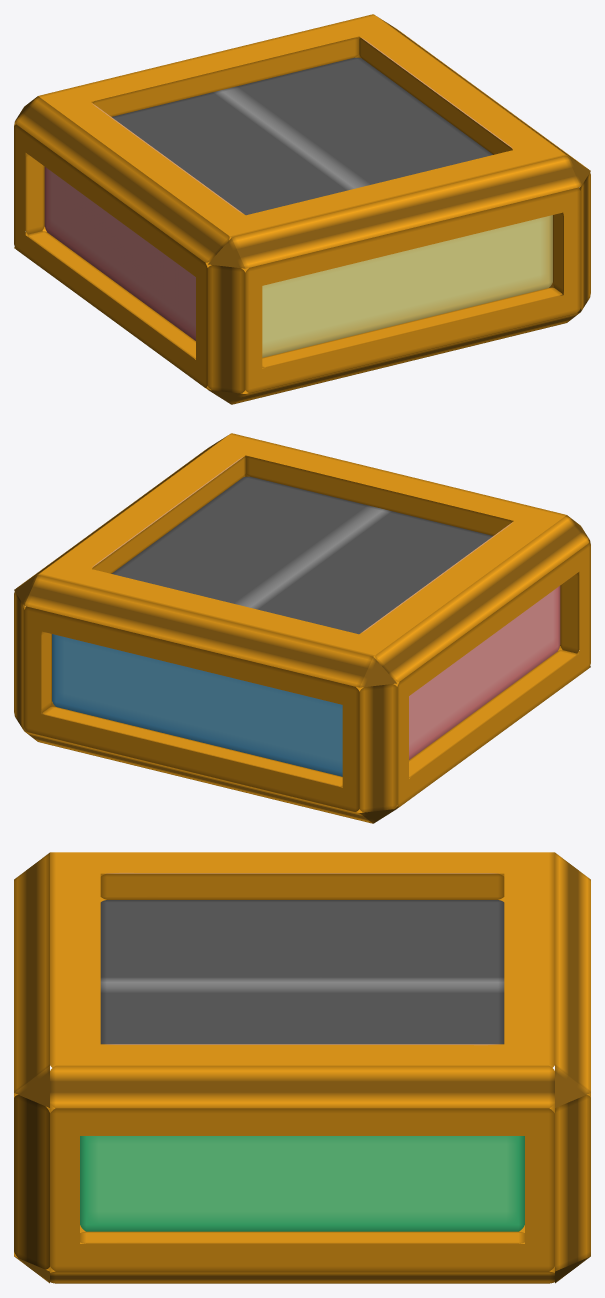
File: QB-10_Ammobox.fbx
The picture shows the model from 3 angles, top to bottom: view 1: azimuth 30°, elevation 25°; view 2: azimuth 150°, elevation 25°; view 3: azimuth 270°, elevation 25°; orthographic projection. The views are drawn at different scales.
Parts seen in each view (by area): view 1: beveled_cuboid; view 2: beveled_cuboid; view 3: beveled_cuboid.
Boxes of the visible parts, x1,y1,x2,y2 form: beveled_cuboid: (14,14,590,404); beveled_cuboid: (14,433,590,823); beveled_cuboid: (14,852,590,1283).
Size of the model in its own units: 75 by 31.25 by 75.
